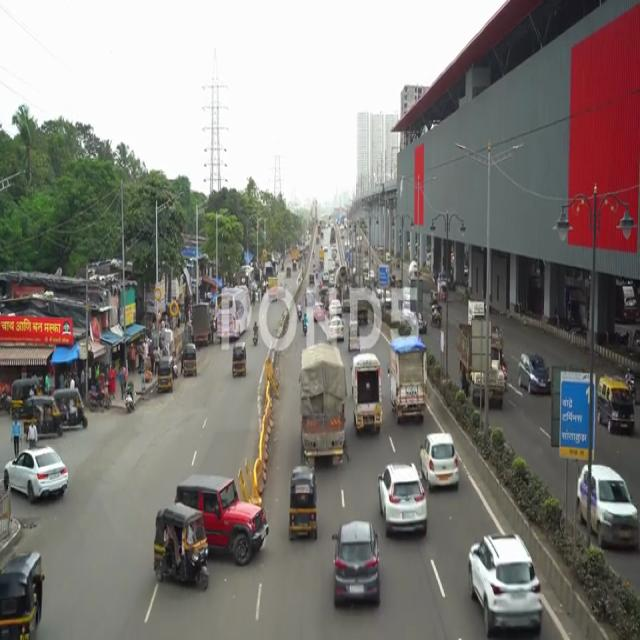car: (462, 535, 537, 640), (593, 461, 640, 556), (332, 517, 380, 609), (0, 449, 71, 498), (379, 458, 423, 536), (598, 374, 636, 441), (516, 343, 552, 398), (423, 434, 456, 490)
rikshaw: (0, 537, 46, 640), (155, 506, 207, 590), (288, 466, 316, 542)
truck: (298, 341, 350, 456), (208, 482, 270, 564), (387, 338, 425, 423), (354, 359, 383, 438)
